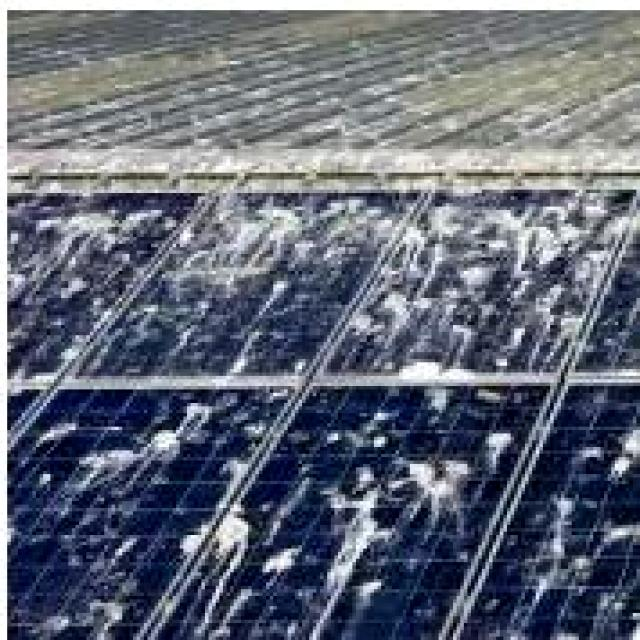bird: (112, 189, 386, 325), (174, 453, 276, 581), (387, 292, 498, 388), (528, 200, 624, 308), (396, 446, 478, 514), (424, 188, 499, 256), (74, 444, 144, 512), (484, 420, 516, 468)
